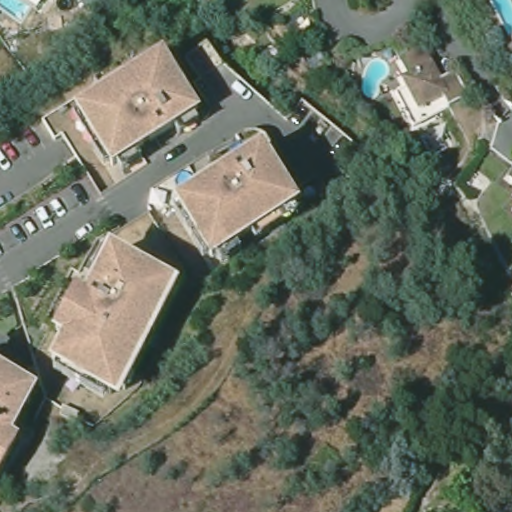pool: (356, 58, 393, 100), (484, 1, 512, 36), (1, 1, 34, 21), (173, 167, 195, 186)
